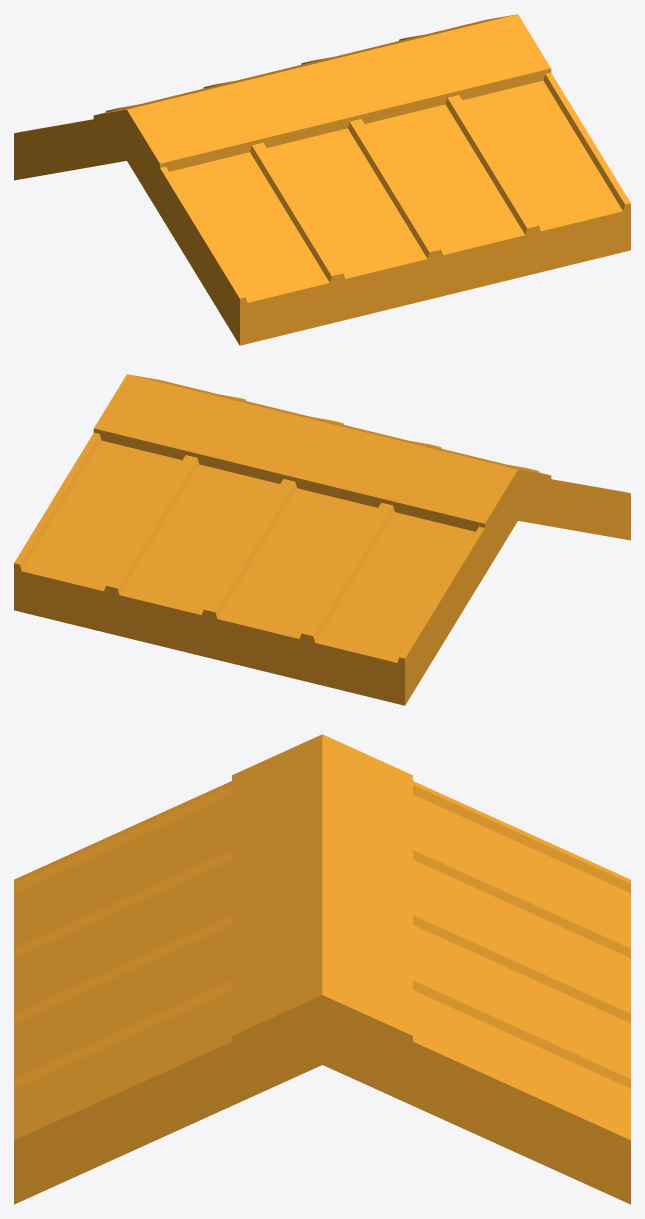
The model's file is SM_Roof_Metal_Moderate_2x1m_Center.fbx.
3 views of the same model, one above another, from view 1: azimuth 30°, elevation 25°; view 2: azimuth 150°, elevation 25°; view 3: azimuth 270°, elevation 25° (orthographic). The views are drawn at different scales.
Parts seen in each view (by area): view 1: roof-metal-moderate-2x1m-center; view 2: roof-metal-moderate-2x1m-center; view 3: roof-metal-moderate-2x1m-center.
Part boxes in pixels (x1,y1,x2,y2): roof-metal-moderate-2x1m-center: [14, 14, 630, 345]; roof-metal-moderate-2x1m-center: [14, 374, 630, 705]; roof-metal-moderate-2x1m-center: [14, 734, 630, 1204].
Size of the model in its own units: 2 by 0.7502 by 2.
